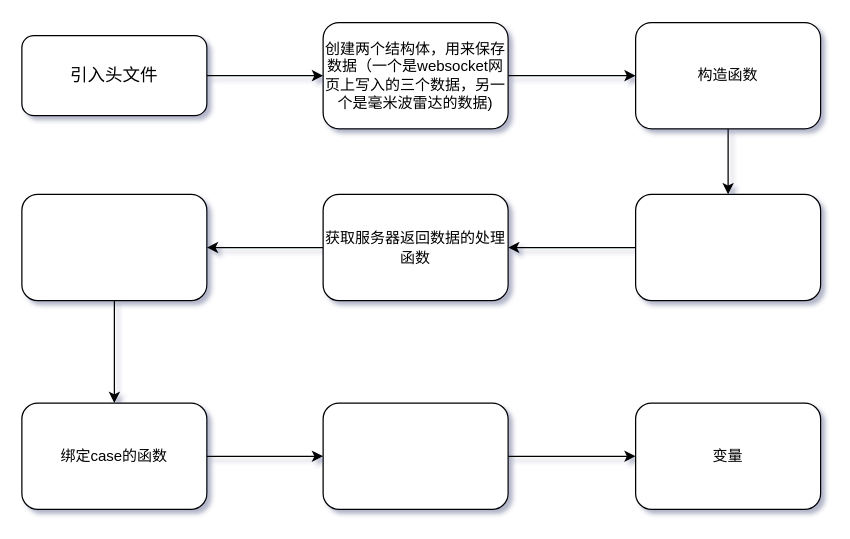
This 850x539 diagram has some shape labels left out. Each missing label, with the box of its shape:
主循环函数: (21, 193, 207, 301)
四个数据打包函数，区别是传参数量和类型的不同: (634, 193, 821, 301)
析构函数: (322, 402, 508, 509)
